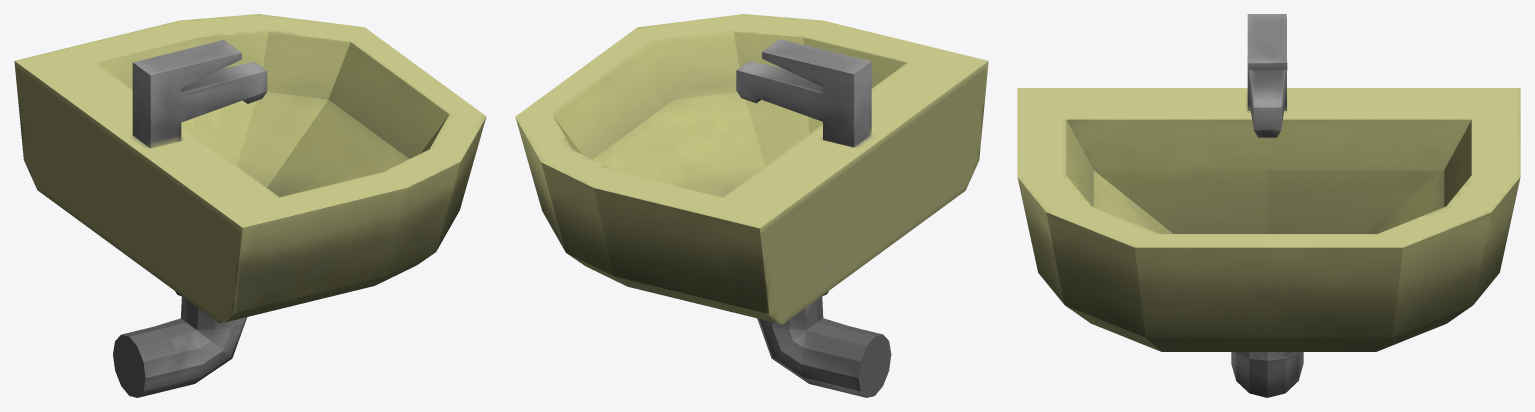
File: sink_grime.obj
The picture shows the model from 3 angles, left to right: view 1: azimuth 30°, elevation 25°; view 2: azimuth 150°, elevation 25°; view 3: azimuth 270°, elevation 25°; orthographic projection. The views are drawn at different scales.
Parts seen in each view (by area): view 1: sink_grime; view 2: sink_grime; view 3: sink_grime.
Boxes of the visible parts, x1,y1,x2,y2 form: sink_grime: [14, 14, 486, 397]; sink_grime: [515, 14, 988, 397]; sink_grime: [1017, 14, 1520, 397].
Bounding box in the file's own units: 0.4507 × 0.47 × 0.6.
